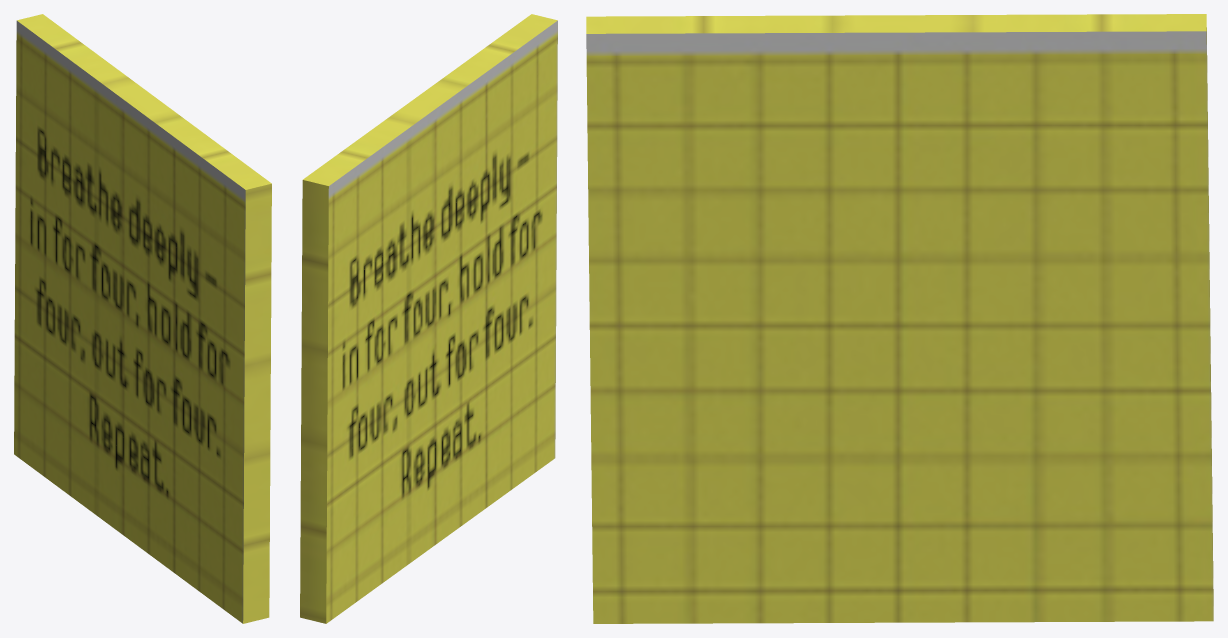
The model's file is note2.fbx.
The picture shows the model from 3 angles, left to right: view 1: azimuth 30°, elevation 25°; view 2: azimuth 150°, elevation 25°; view 3: azimuth 270°, elevation 25°; orthographic projection. The views are drawn at different scales.
Visible parts, largest first — view 1: note2; view 2: note2; view 3: note2.
Part boxes in pixels (bbox=[...]): note2: bbox=[14, 14, 271, 623]; note2: bbox=[300, 14, 557, 623]; note2: bbox=[586, 14, 1213, 623].
Bounding box in the file's own units: 1.53 × 24.35 × 23.36.
1 material, 1 textured.
